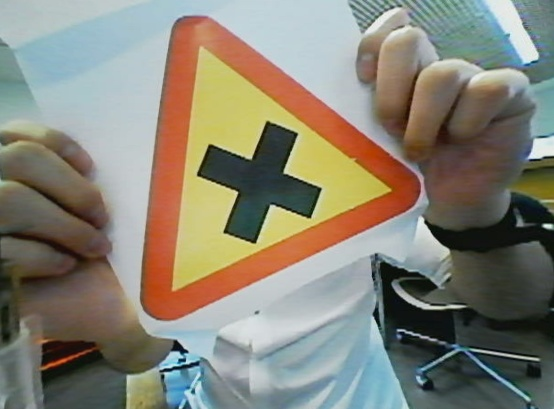junction: (128, 13, 422, 325)
